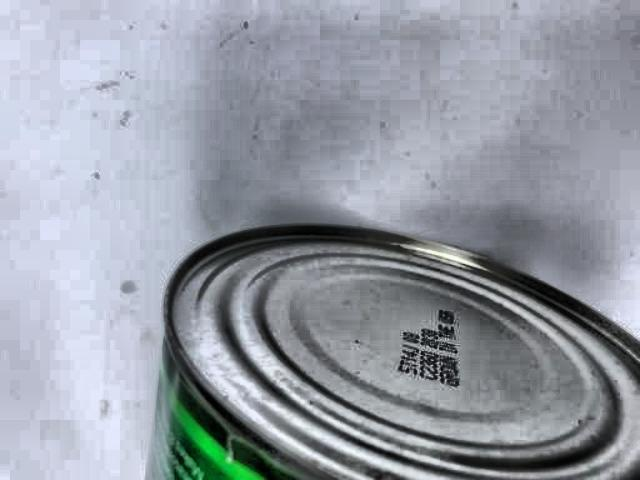Almennt: (114, 180, 640, 480)
